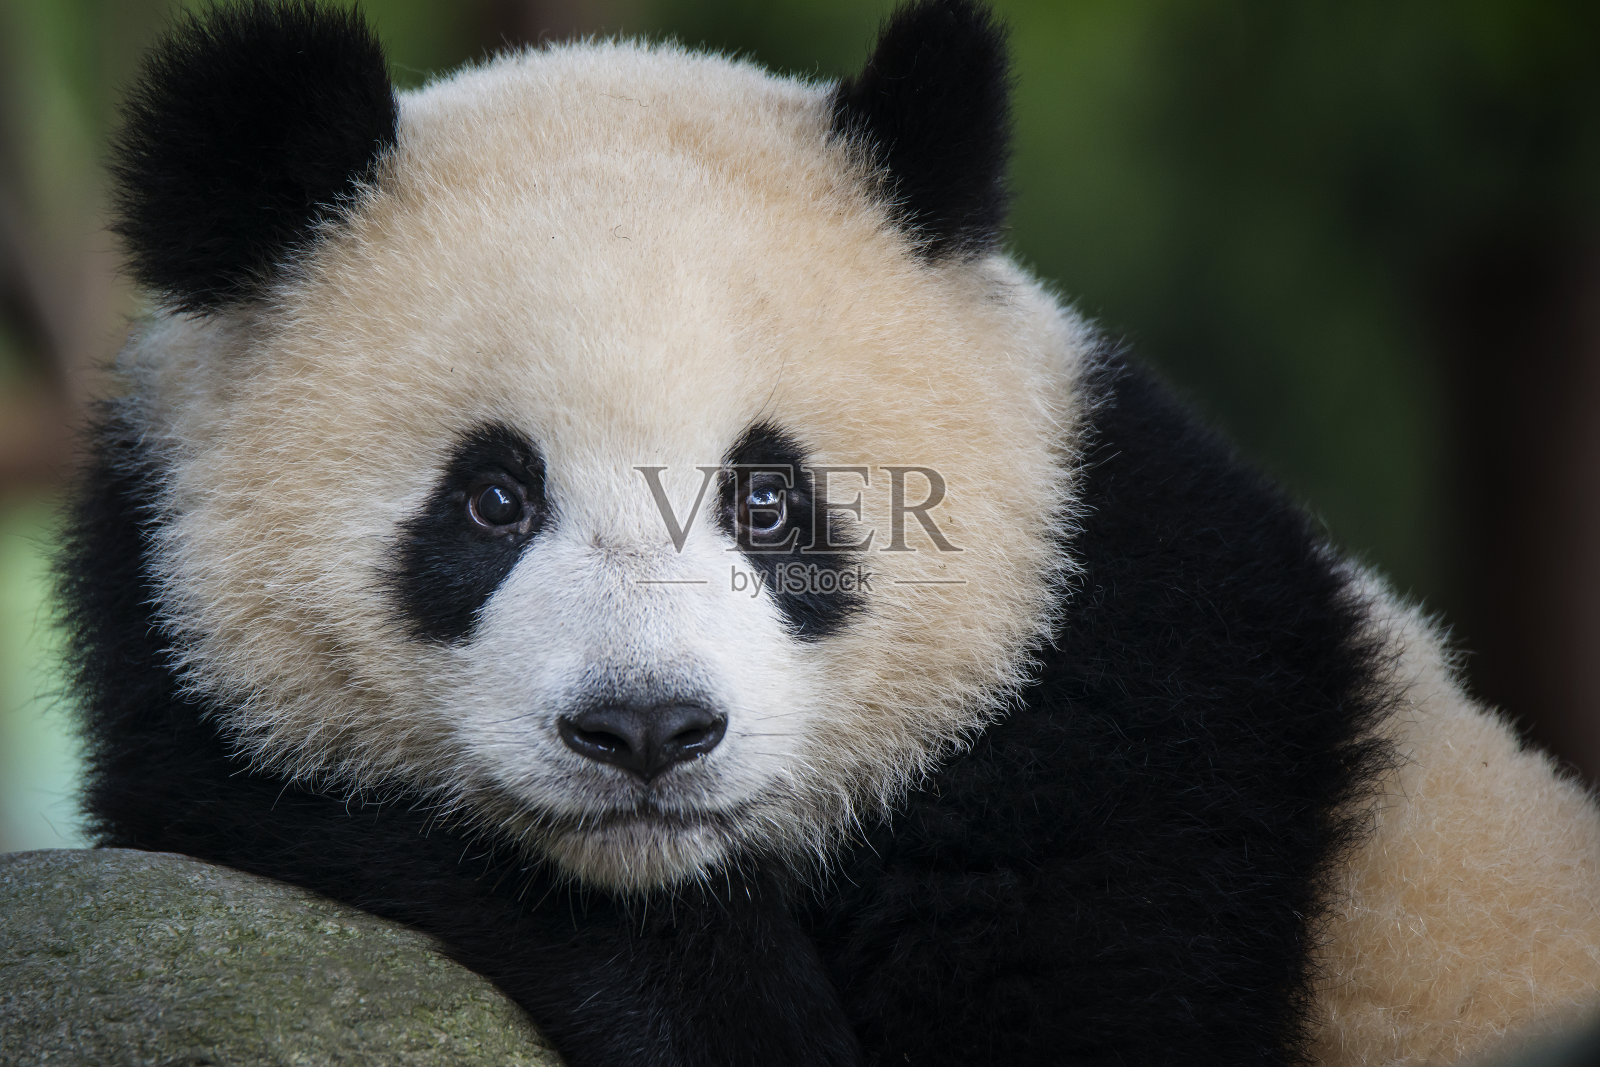panda: (65, 12, 1574, 1047)
